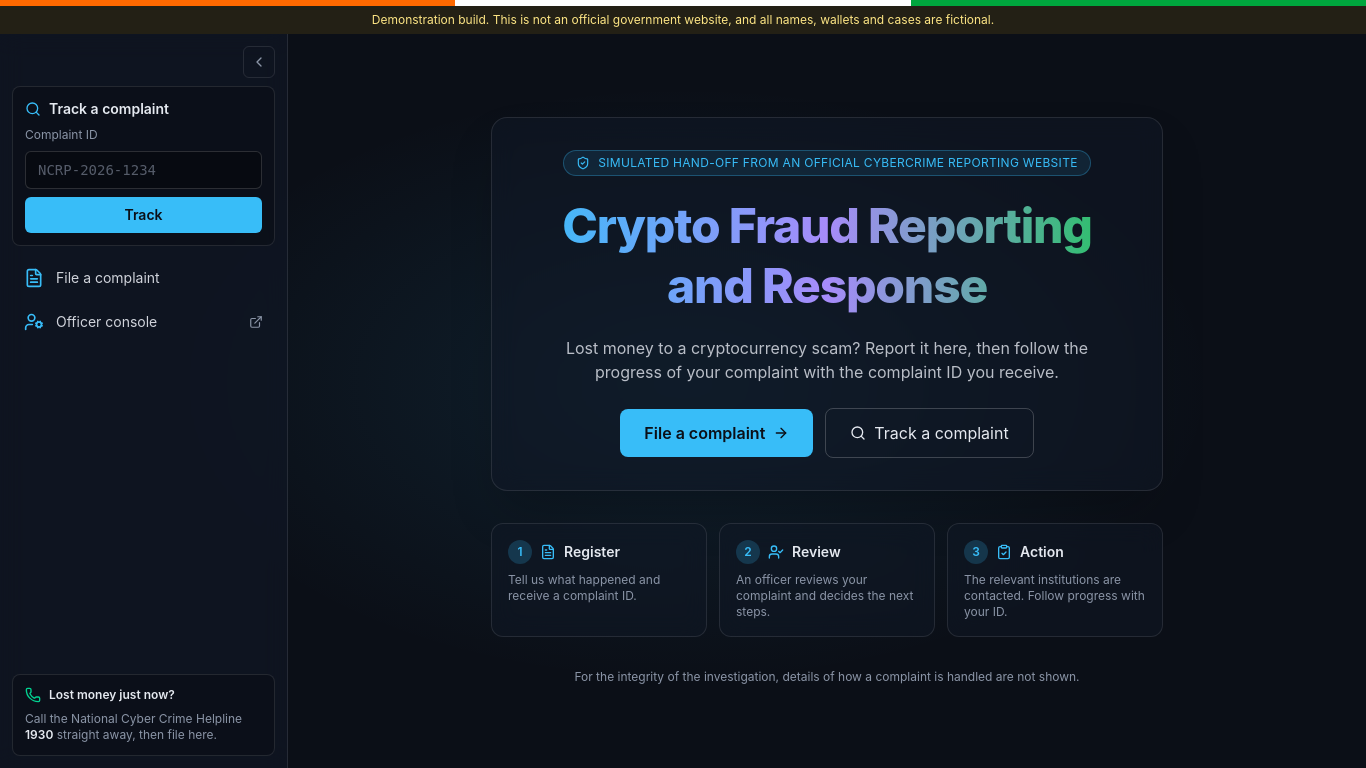
Test: gateway side panel › collapses to a slim rail that keeps every door reachable
Click the button named "collapse menu" at (259, 62), box left=243, top=46, right=275, bottom=78
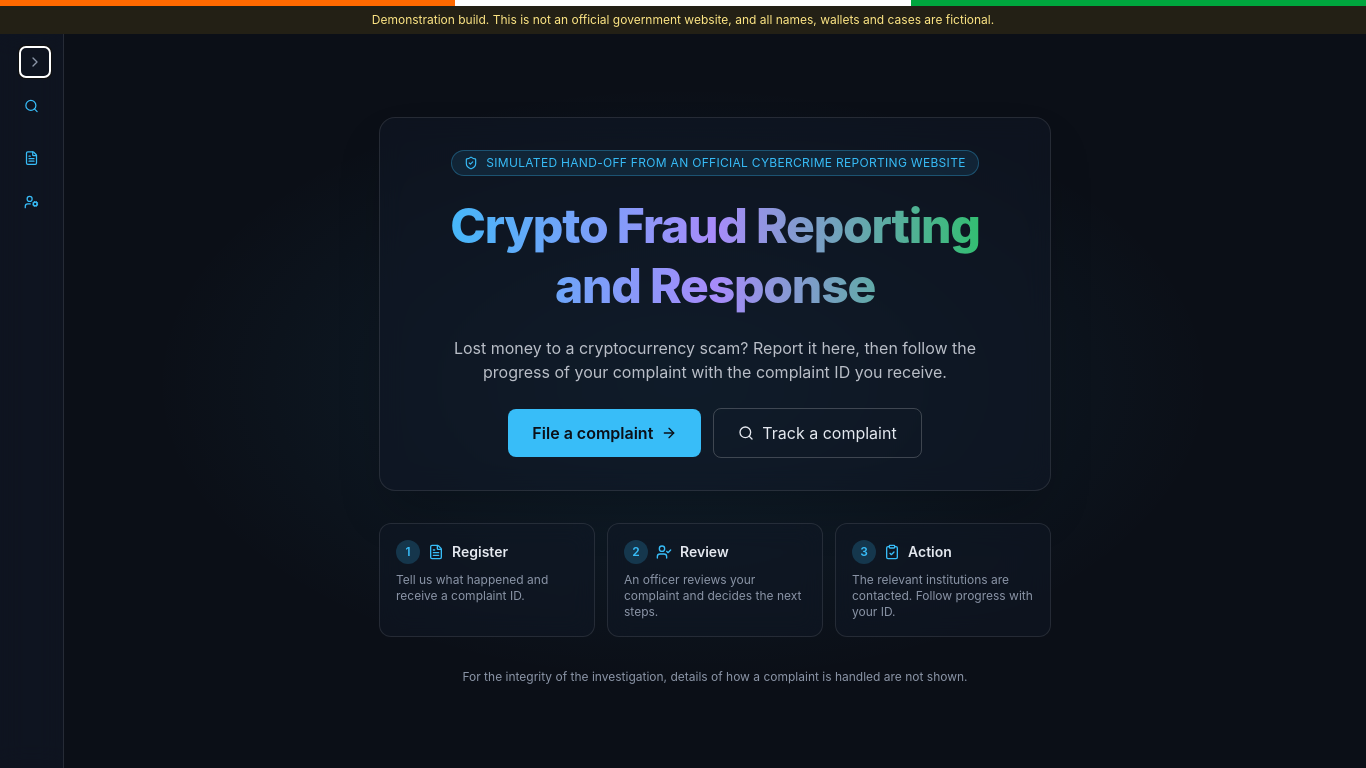
Expected: the button named "expand menu" is collapsed, left=19, top=46, right=51, bottom=78
